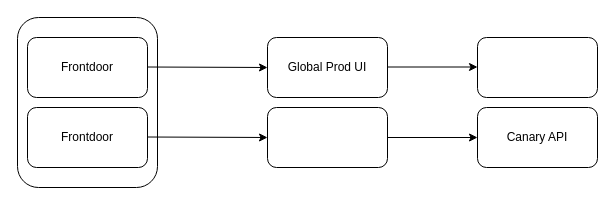
Image size: 615x205. Some labels were removed from this diagram. Here are the shapes that lost their labels. From the top down, the box of each, then its label:
(476, 36, 598, 98): Global Prod API (EUS + CUS)
(266, 106, 388, 168): Canary UI
